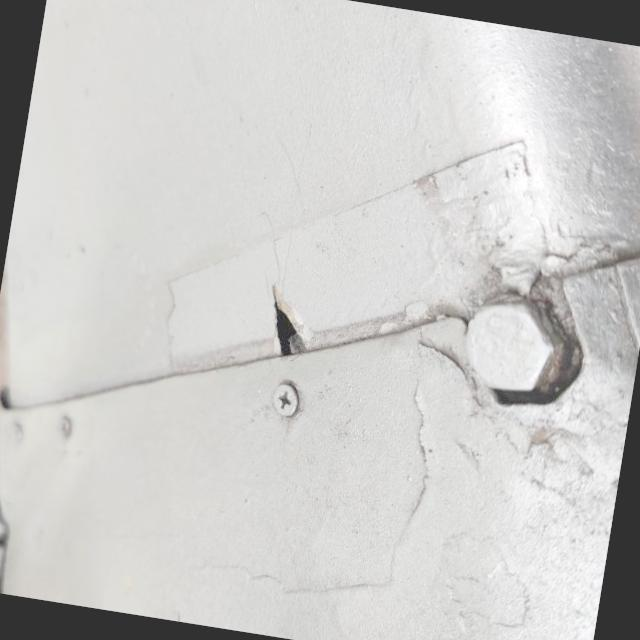crack: (218, 248, 373, 406)
